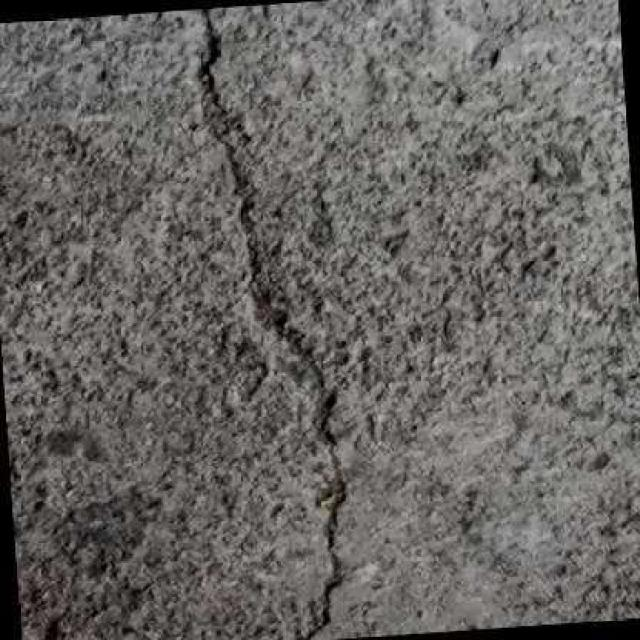D00: (198, 7, 355, 640)
